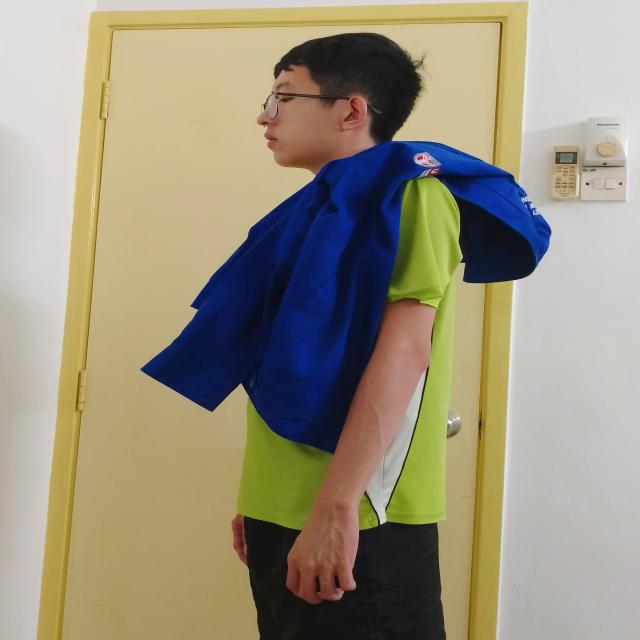person_without_labcoat: (143, 33, 550, 640), (232, 179, 461, 640), (257, 33, 421, 175)
